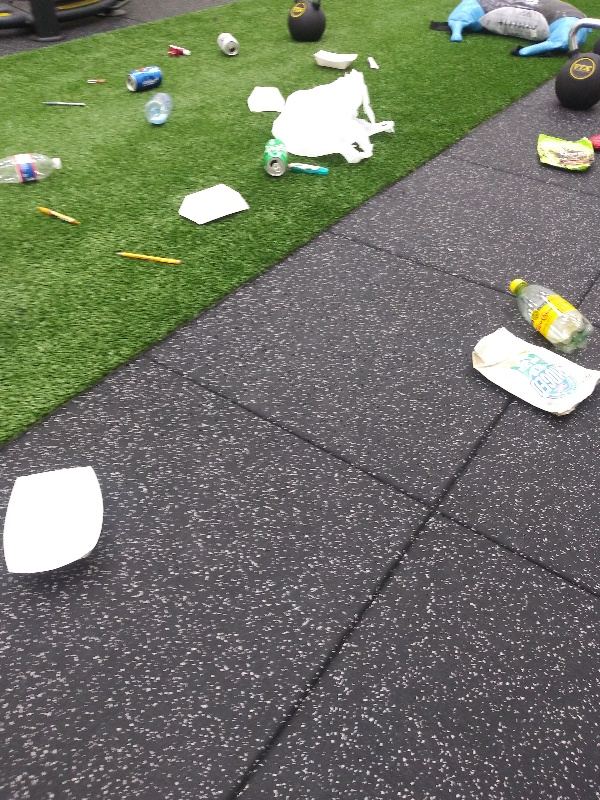bag: (467, 320, 600, 421), (528, 125, 596, 173)
bottle: (502, 273, 596, 354), (1, 149, 71, 186), (140, 90, 173, 126)
can: (257, 132, 289, 178), (124, 62, 167, 93), (211, 30, 241, 57)
plate: (2, 462, 107, 582), (173, 182, 253, 225), (243, 84, 286, 117), (310, 44, 362, 71)
